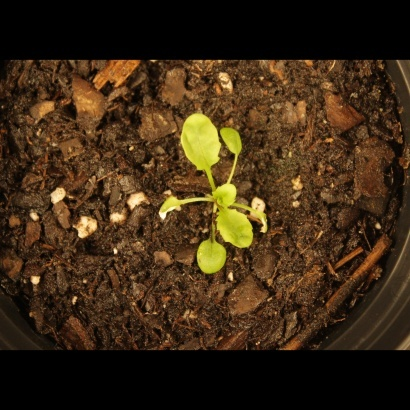leaf: (171, 111, 224, 173), (216, 206, 257, 253), (196, 236, 233, 280), (214, 118, 250, 157), (210, 176, 243, 212), (154, 196, 190, 223)
